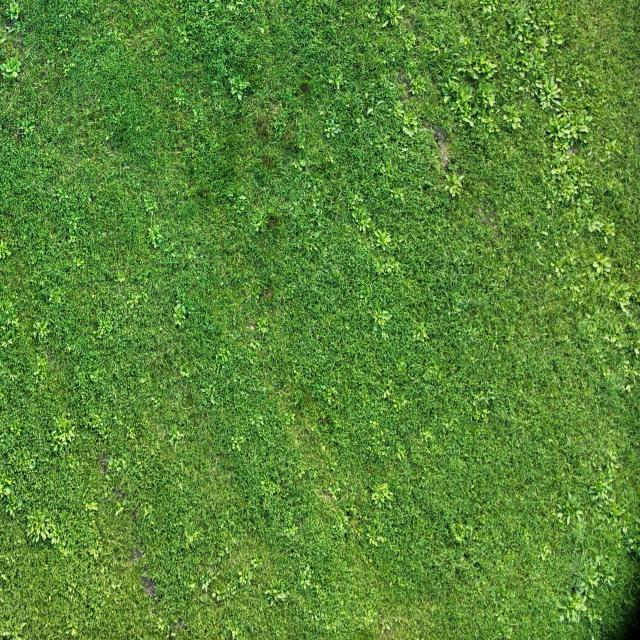rumex: (366, 91, 441, 221), (223, 323, 299, 432), (100, 71, 182, 166), (320, 459, 402, 554), (559, 551, 613, 627), (51, 0, 100, 56), (584, 461, 626, 525), (48, 182, 87, 240), (86, 296, 132, 344), (376, 152, 408, 207), (547, 248, 582, 292), (458, 46, 498, 82), (510, 36, 543, 77), (302, 182, 331, 227), (393, 101, 423, 143), (551, 170, 582, 209), (604, 318, 634, 353), (547, 112, 576, 146), (110, 492, 142, 522), (554, 491, 580, 527), (403, 61, 428, 98), (560, 588, 588, 621), (426, 28, 452, 60), (476, 80, 499, 116), (263, 578, 292, 606), (378, 1, 407, 28), (2, 485, 23, 522), (13, 112, 40, 140), (470, 388, 494, 418), (372, 254, 398, 281), (320, 110, 343, 140), (450, 519, 476, 545), (369, 481, 395, 507), (248, 205, 270, 235), (590, 251, 616, 276), (536, 84, 561, 110), (450, 83, 474, 110), (163, 425, 187, 449), (0, 55, 23, 80), (353, 208, 375, 234), (602, 138, 624, 164), (615, 285, 636, 311), (572, 62, 592, 88), (410, 319, 430, 344), (33, 355, 49, 385), (172, 300, 190, 326), (32, 318, 50, 343), (622, 358, 640, 382), (236, 564, 255, 586), (298, 564, 314, 590), (478, 0, 501, 18), (82, 496, 101, 516), (374, 228, 393, 248), (372, 310, 390, 331), (6, 0, 22, 23), (445, 74, 463, 93), (142, 194, 159, 214), (588, 218, 608, 235), (146, 229, 162, 249), (229, 435, 245, 453), (600, 220, 616, 238), (533, 35, 549, 53), (328, 484, 343, 502), (0, 238, 11, 262), (292, 158, 308, 174), (61, 57, 76, 74), (140, 503, 154, 521), (327, 75, 342, 91), (184, 531, 199, 547), (573, 580, 586, 596), (586, 572, 599, 587), (566, 491, 577, 508), (510, 114, 522, 129), (546, 73, 556, 91), (177, 24, 188, 40), (37, 528, 49, 542), (113, 505, 125, 519), (201, 578, 211, 593), (58, 433, 69, 446), (179, 366, 190, 378), (174, 302, 184, 314), (3, 485, 12, 498), (382, 388, 391, 400), (366, 106, 375, 118), (522, 24, 531, 36), (264, 588, 274, 597), (442, 94, 450, 105), (166, 426, 174, 436), (555, 265, 563, 275), (235, 92, 243, 102), (238, 194, 247, 202), (251, 558, 259, 567), (556, 511, 564, 520), (624, 383, 632, 392), (592, 260, 600, 269), (210, 395, 216, 406), (272, 588, 279, 596), (70, 628, 77, 636), (565, 500, 571, 509), (104, 134, 110, 142), (211, 592, 217, 600), (393, 402, 398, 409)
